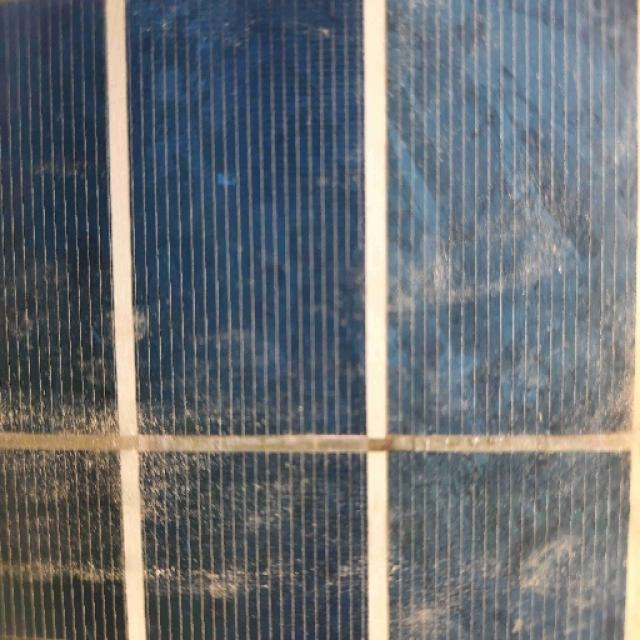Dirty: (7, 71, 640, 640)
